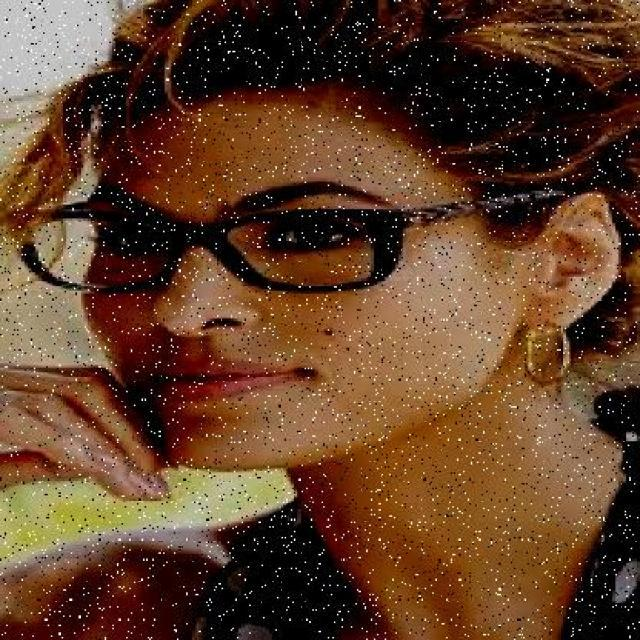glasses: (0, 196, 445, 310)
